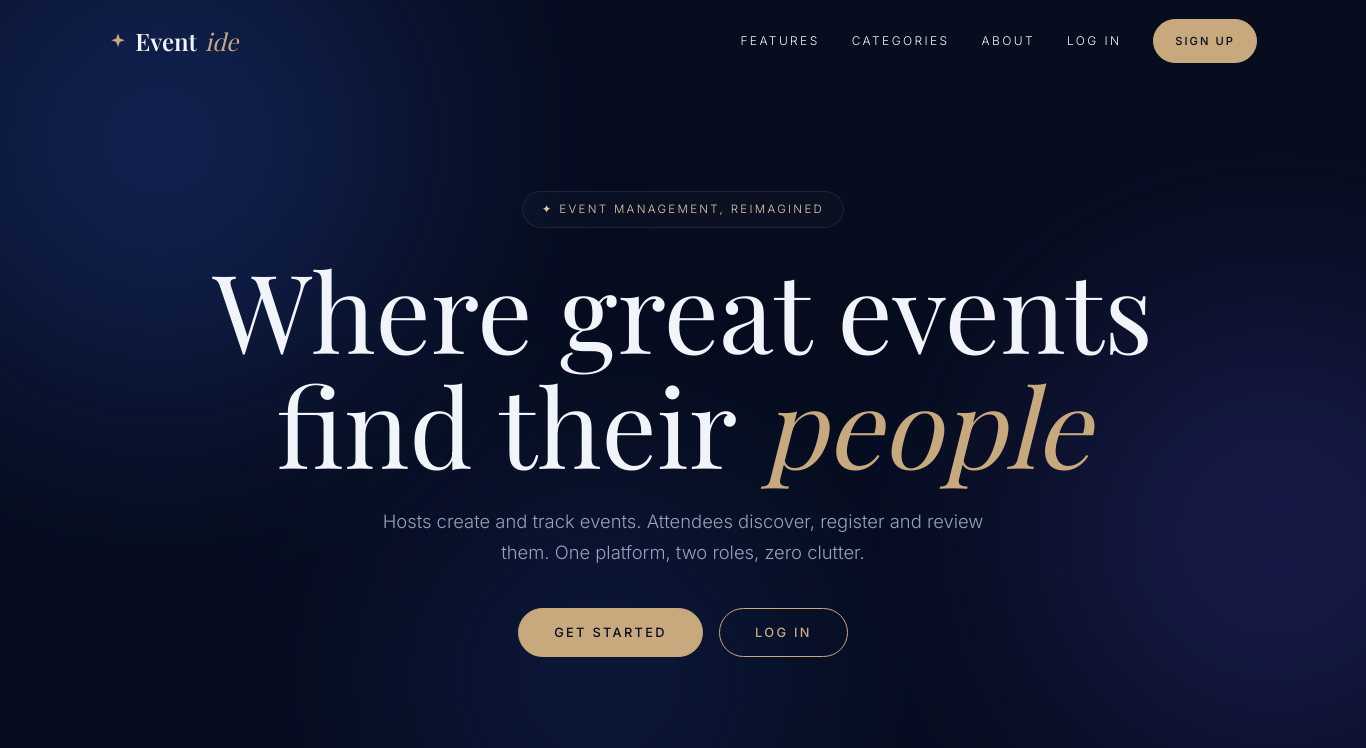
EMS-FR-01 Landing page in the app › "Get started" opens the signup page
Click the link "Get started". click: (610, 633)
box: [518, 608, 703, 657]
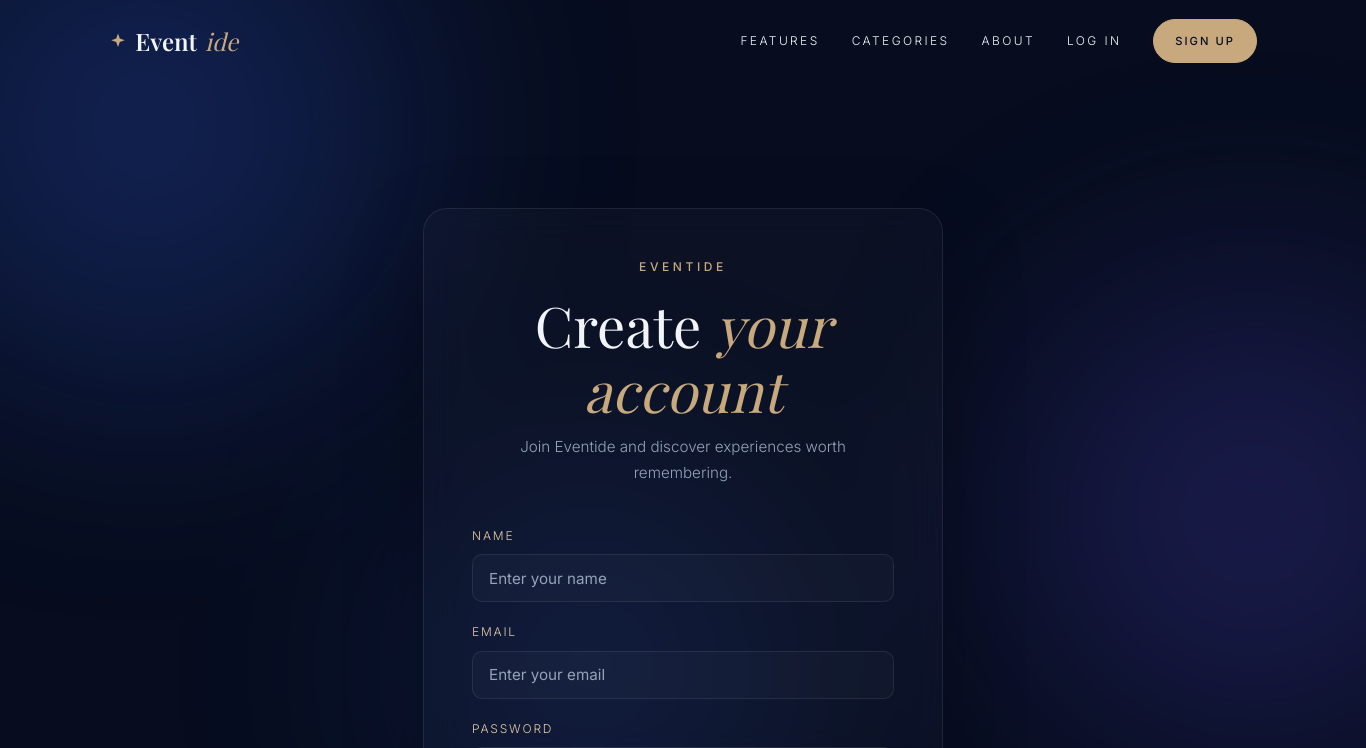
Now the heading "Create your account" is shown, box [535, 287, 831, 427]
